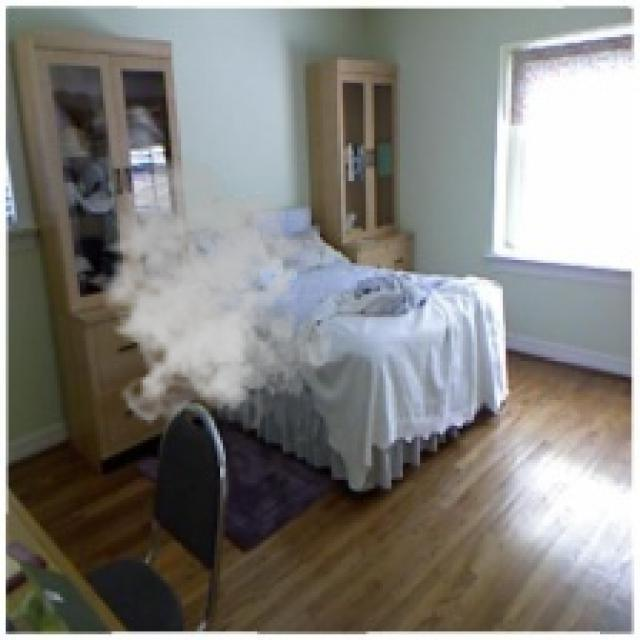Smoke: (77, 157, 332, 429)
